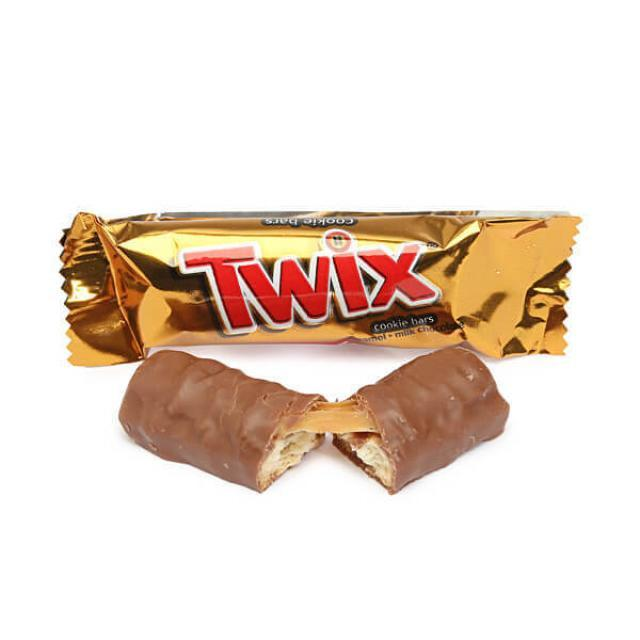Chocolate bar: (58, 210, 582, 369)
Chocolate bar packaged: (119, 347, 515, 499)
